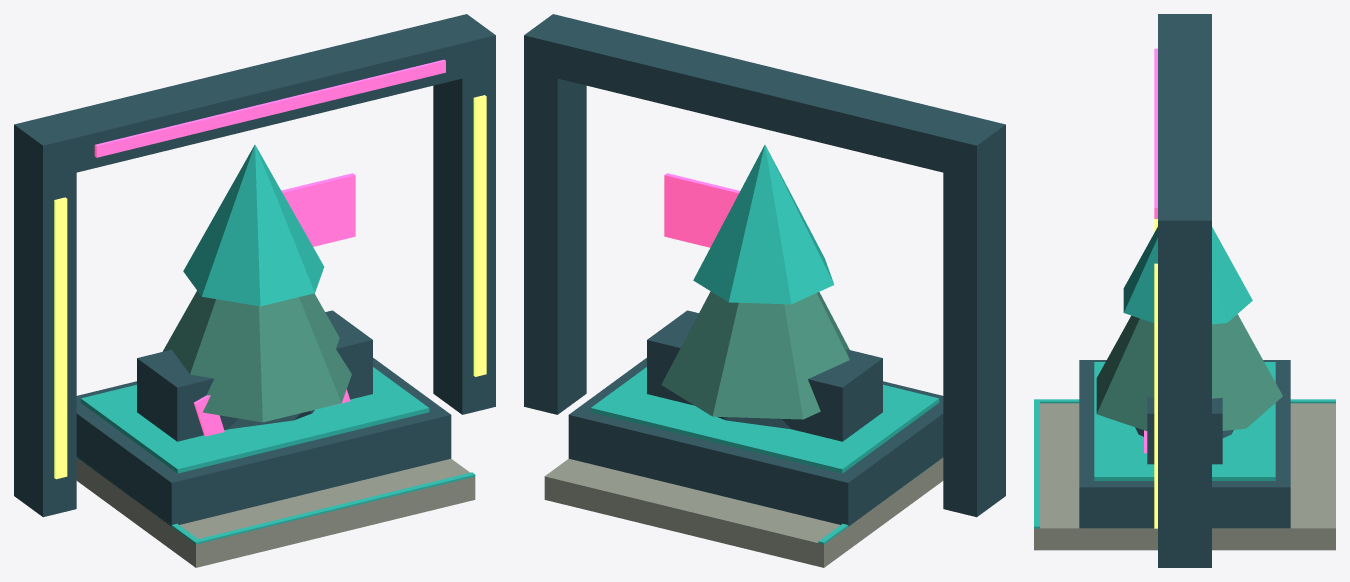
The model's file is radcat-playground.glb.
The picture shows the model from 3 angles, left to right: view 1: azimuth 30°, elevation 25°; view 2: azimuth 150°, elevation 25°; view 3: azimuth 270°, elevation 25°; orthographic projection. The views are drawn at different scales.
Parts seen in each view (by area): view 1: gate, platform, tree, ground_tile, barrier, flag; view 2: gate, platform, tree, ground_tile, barrier, flag; view 3: gate, platform, ground_tile, tree, barrier.
Part boxes in pixels (box(x1,y1,x2,y2)): gate: box(14, 14, 495, 517); platform: box(76, 358, 451, 526); tree: box(162, 145, 351, 422); ground_tile: box(76, 456, 475, 567); barrier: box(137, 310, 372, 441); flag: box(281, 173, 355, 246); gate: box(524, 14, 1005, 517); platform: box(568, 358, 943, 526); tree: box(661, 145, 849, 419); ground_tile: box(544, 457, 943, 567); barrier: box(647, 310, 882, 441); flag: box(664, 173, 739, 247); gate: box(1154, 14, 1211, 567); platform: box(1079, 360, 1290, 528); ground_tile: box(1034, 399, 1335, 550); tree: box(1096, 227, 1282, 430); barrier: box(1144, 397, 1222, 464).
Size of the model in its own units: 3.24 by 2.7 by 2.
